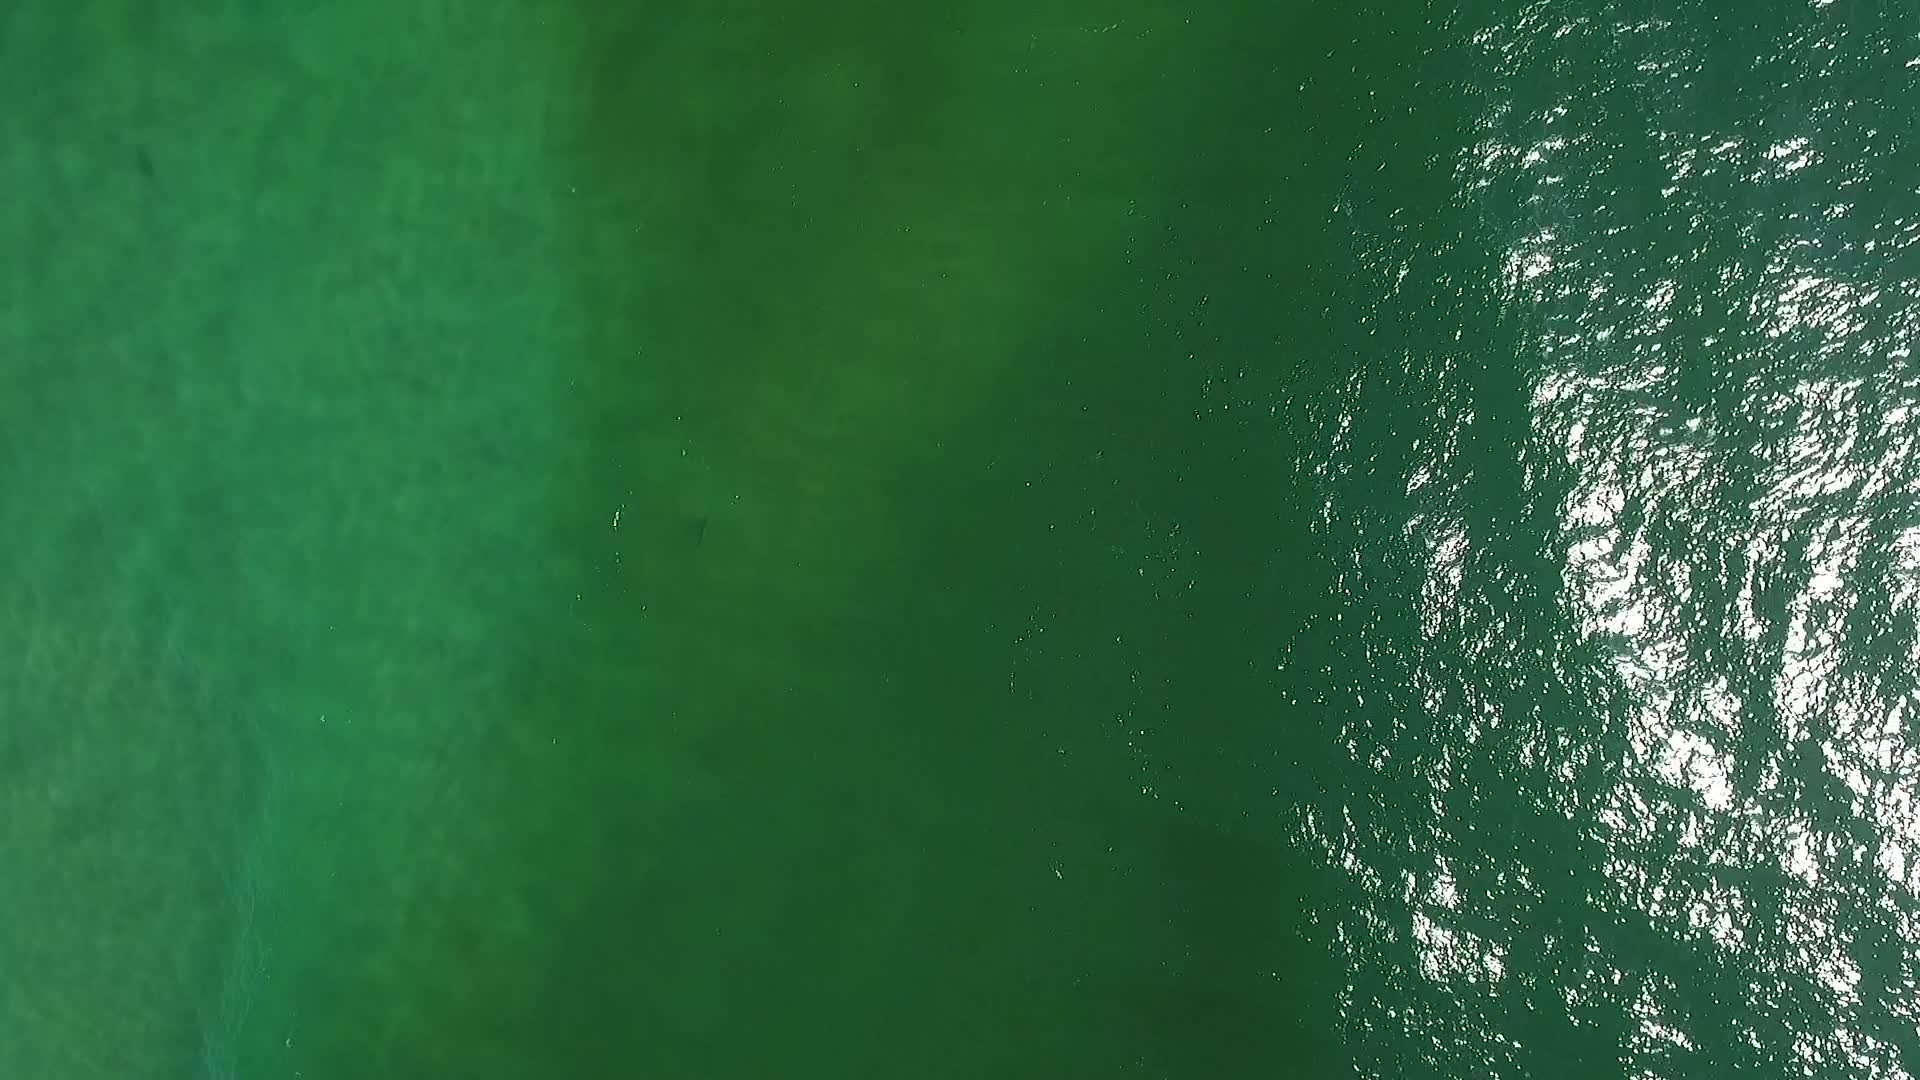shark: (690, 520, 711, 545)
